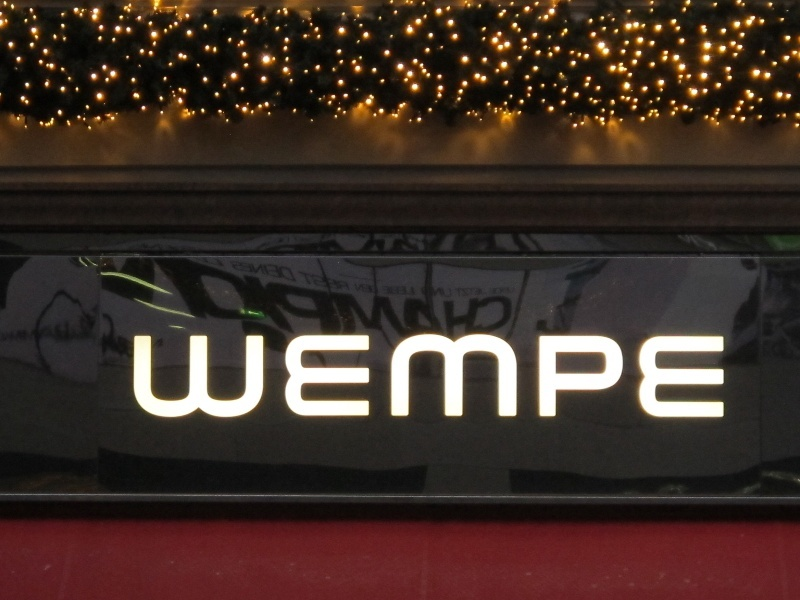text: (113, 239, 128, 373), (129, 239, 144, 373), (145, 239, 160, 373), (161, 239, 176, 373), (177, 239, 192, 373), (193, 239, 208, 373), (209, 239, 224, 373), (225, 239, 240, 373), (241, 239, 256, 373), (257, 239, 272, 373), (273, 239, 288, 373), (289, 239, 304, 373), (305, 239, 320, 373), (321, 239, 336, 373), (337, 239, 352, 373), (353, 239, 368, 373), (369, 239, 384, 373), (385, 239, 400, 373), (401, 239, 416, 373), (417, 239, 432, 373), (433, 239, 448, 373), (449, 239, 464, 373), (465, 239, 480, 373), (481, 239, 496, 373), (497, 239, 512, 373), (99, 239, 112, 373), (145, 334, 160, 422), (161, 334, 176, 422), (177, 334, 192, 422), (193, 334, 208, 422), (209, 334, 224, 422), (225, 334, 240, 422), (241, 334, 256, 422), (257, 334, 272, 422), (273, 334, 288, 422), (289, 334, 304, 422), (305, 334, 320, 422), (321, 334, 336, 422), (337, 334, 352, 422), (353, 334, 368, 422), (369, 334, 384, 422), (385, 334, 400, 422), (401, 334, 416, 422), (417, 334, 432, 422), (433, 334, 448, 422), (449, 334, 464, 422), (465, 334, 480, 422), (481, 334, 496, 422), (497, 334, 512, 422), (513, 334, 528, 422), (529, 334, 544, 422), (545, 334, 560, 422), (561, 334, 576, 422), (577, 334, 592, 422), (593, 334, 608, 422), (609, 334, 624, 422), (625, 334, 640, 422), (641, 334, 656, 422), (657, 334, 672, 422), (673, 334, 688, 422), (689, 334, 704, 422), (705, 334, 720, 422), (134, 334, 144, 422), (113, 309, 128, 363), (99, 309, 112, 363), (1, 306, 16, 347), (17, 306, 32, 347), (33, 306, 48, 347), (49, 306, 64, 347), (65, 306, 80, 347), (81, 306, 96, 347), (721, 334, 726, 422), (209, 256, 224, 284), (225, 256, 240, 284), (241, 256, 256, 284), (257, 256, 272, 284), (273, 256, 288, 284), (513, 239, 516, 373), (305, 271, 320, 292), (321, 271, 336, 292), (337, 271, 352, 292), (129, 309, 134, 363), (199, 256, 208, 284), (289, 256, 297, 284), (497, 286, 512, 297), (433, 288, 448, 298), (354, 284, 368, 294), (385, 287, 400, 296), (401, 287, 416, 296), (97, 306, 100, 347), (465, 289, 480, 297), (369, 284, 380, 294), (421, 288, 432, 298), (299, 271, 304, 292), (489, 286, 496, 297), (455, 289, 464, 297), (481, 289, 487, 297), (449, 288, 453, 298), (513, 286, 515, 297)
